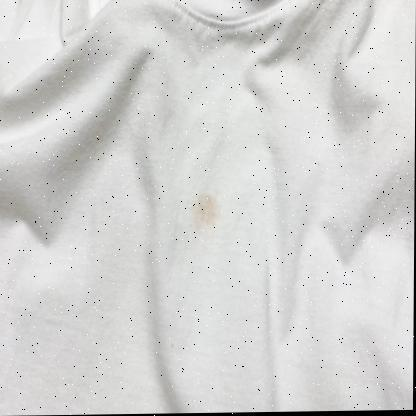coffee: (193, 194, 220, 226)
